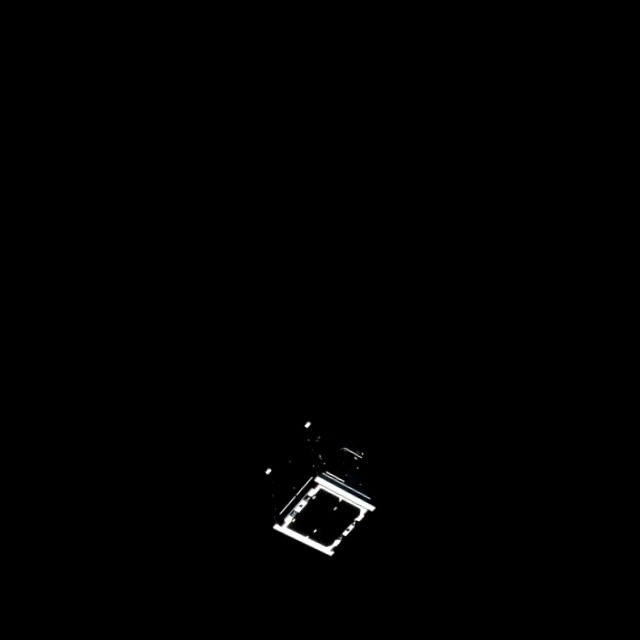satellite: (259, 412, 387, 559)
